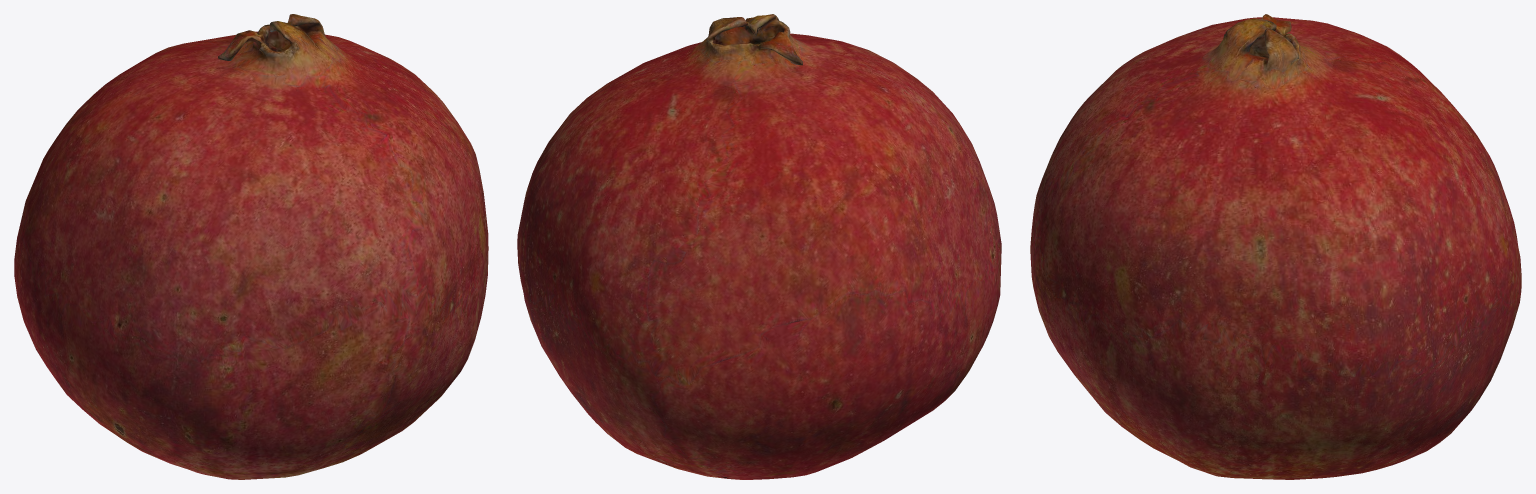
Rendered from food_pomegranate_01.glb.
The picture shows the model from 3 angles, left to right: view 1: azimuth 30°, elevation 25°; view 2: azimuth 150°, elevation 25°; view 3: azimuth 270°, elevation 25°; orthographic projection. The views are drawn at different scales.
Visible parts, largest first — view 1: food_pomegranate_01; view 2: food_pomegranate_01; view 3: food_pomegranate_01.
Boxes of the visible parts, bbox=[...] form: food_pomegranate_01: bbox=[14, 14, 488, 479]; food_pomegranate_01: bbox=[517, 14, 1001, 479]; food_pomegranate_01: bbox=[1030, 14, 1521, 479].
Bounding box in the file's own units: 0.1143 × 0.115 × 0.1154.
1 material, 1 textured.
